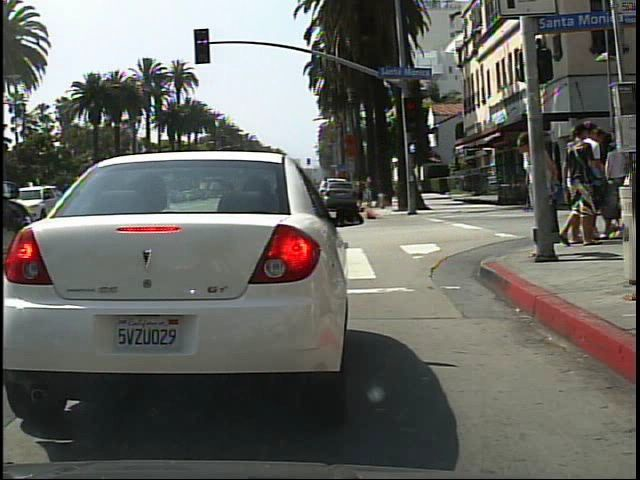person: (513, 124, 557, 265)
